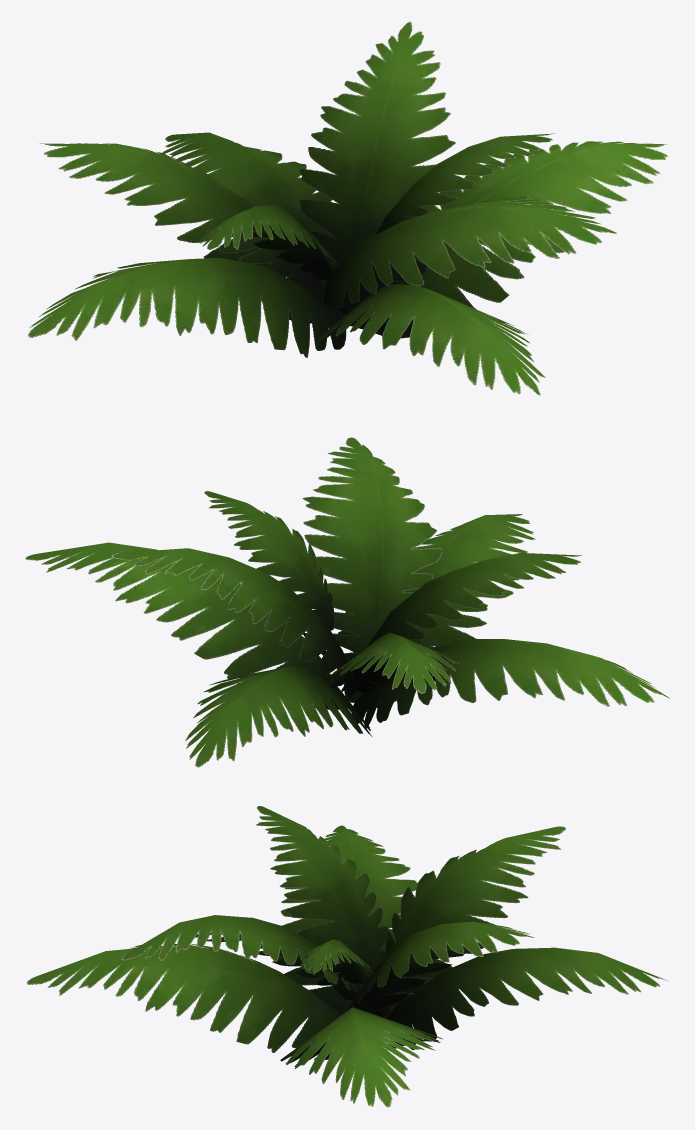
Rendered from hias-pakis-1.glb.
3 views of the same model, one above another, from view 1: azimuth 30°, elevation 25°; view 2: azimuth 150°, elevation 25°; view 3: azimuth 270°, elevation 25° (orthographic). The views are drawn at different scales.
Parts seen in each view (by area): view 1: Fern_1; view 2: Fern_1; view 3: Fern_1.
Part boxes in pixels (x1,y1,x2,y2): Fern_1: [27, 21, 667, 395]; Fern_1: [25, 437, 670, 767]; Fern_1: [26, 806, 668, 1107].
Size of the model in its own units: 3.36 by 1 by 3.16.
Materials: 1 (1 with a texture image).
